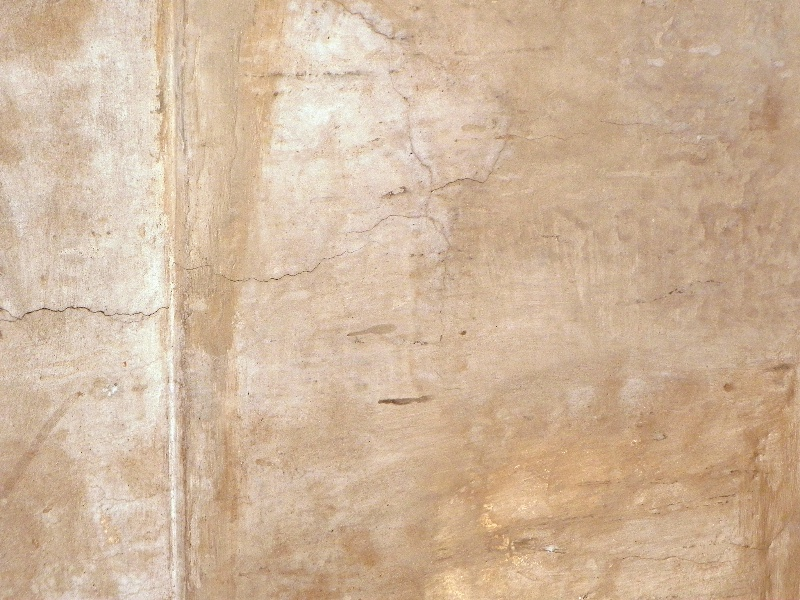Crack: (1, 295, 163, 334), (170, 256, 340, 280)
